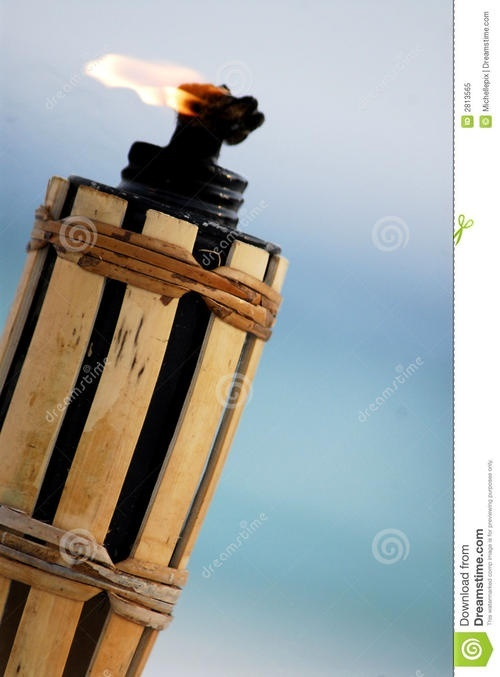fire: (80, 51, 214, 117)
